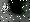person: (3, 3, 10, 15)
